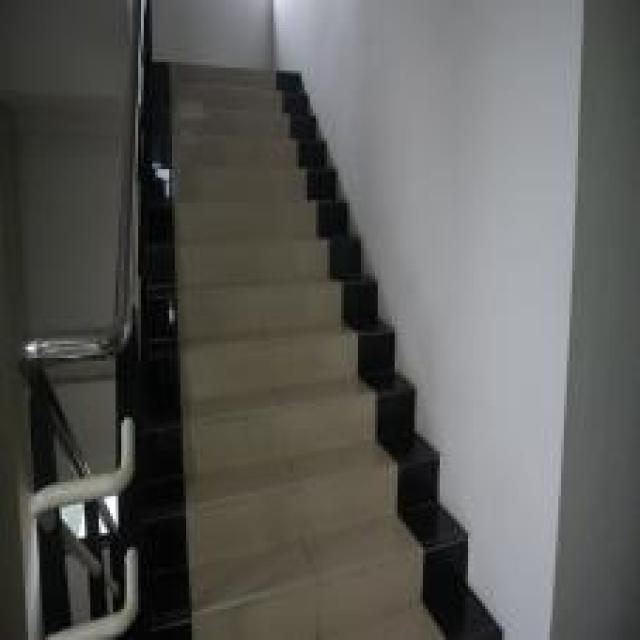upstair: (145, 106, 314, 467)
